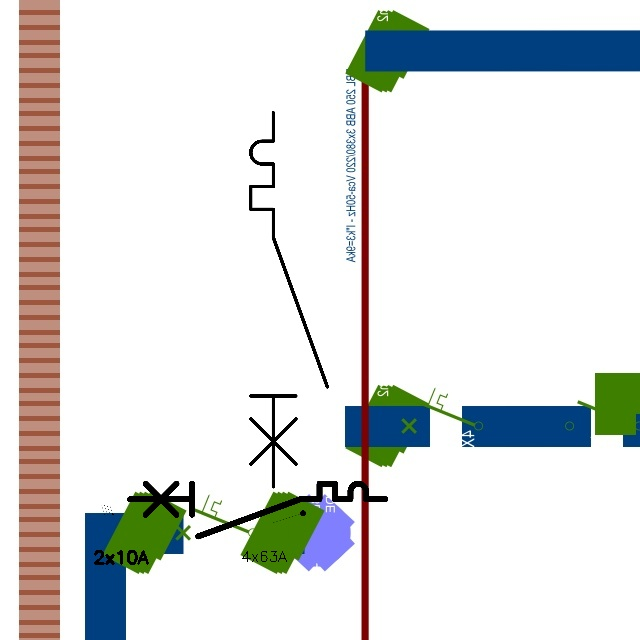interruptor_termomagnetico: (241, 103, 337, 496), (123, 477, 392, 542)
